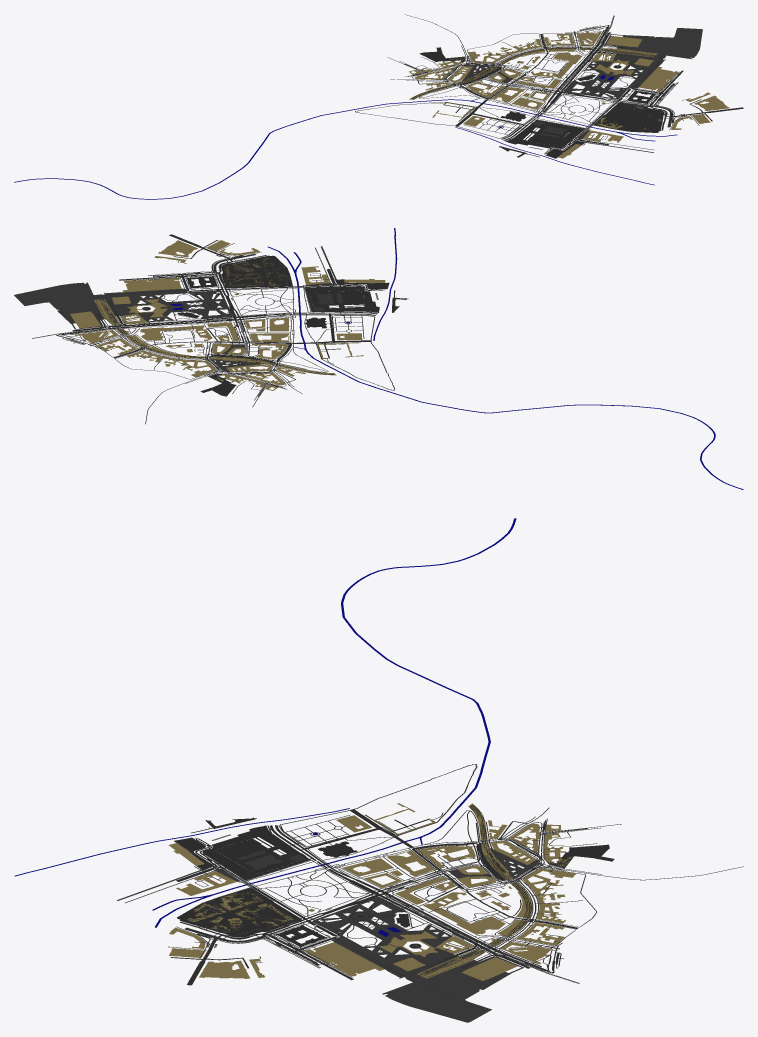
Rendered from map.obj.
3 renders of one model, top to bottom at view 1: azimuth 30°, elevation 25°; view 2: azimuth 150°, elevation 25°; view 3: azimuth 270°, elevation 25°, orthographic. The views are drawn at different scales.
Visible parts, largest first — view 1: RoadArea3321::pedestrian, RoadArea3327::pedestrian, RoadArea Nikolaiviertel::pedestrian, Waterway Spree, Rail Berliner Stadtbahn, Road Karl-Liebknecht-Straße, RoadArea Berliner Schloss::pedestrian, Building Rathauspassagen, Road Museumsinsel::pedestrian, Road Spandauer Straße; view 2: RoadArea3321::pedestrian, RoadArea3327::pedestrian, RoadArea Nikolaiviertel::pedestrian, Waterway Spree, Road Karl-Liebknecht-Straße, RoadArea Berliner Schloss::pedestrian, Building Rathauspassagen, Rail Berliner Stadtbahn; view 3: RoadArea3321::pedestrian, RoadArea3327::pedestrian, RoadArea Nikolaiviertel::pedestrian, Waterway Spree, Road Karl-Liebknecht-Straße, RoadArea Berliner Schloss::pedestrian, Rail Berliner Stadtbahn, Building Rathauspassagen.
Boxes of the visible parts, x1=… form: RoadArea3321::pedestrian: x1=564, y1=53, x2=665, y2=99; RoadArea3327::pedestrian: x1=605, y1=28, x2=702, y2=59; RoadArea Nikolaiviertel::pedestrian: x1=593, y1=102, x2=664, y2=132; Waterway Spree: x1=14, y1=99, x2=677, y2=199; Rail Berliner Stadtbahn: x1=411, y1=47, x2=656, y2=99; Road Karl-Liebknecht-Straße: x1=540, y1=25, x2=610, y2=112; RoadArea Berliner Schloss::pedestrian: x1=527, y1=123, x2=572, y2=145; Building Rathauspassagen: x1=639, y1=66, x2=672, y2=90; Road Museumsinsel::pedestrian: x1=355, y1=102, x2=520, y2=138; Road Spandauer Straße: x1=509, y1=83, x2=662, y2=109; RoadArea3321::pedestrian: x1=93, y1=288, x2=232, y2=322; RoadArea3327::pedestrian: x1=14, y1=282, x2=104, y2=329; RoadArea Nikolaiviertel::pedestrian: x1=221, y1=255, x2=292, y2=288; Waterway Spree: x1=267, y1=246, x2=743, y2=489; Road Karl-Liebknecht-Straße: x1=57, y1=313, x2=292, y2=335; RoadArea Berliner Schloss::pedestrian: x1=309, y1=290, x2=364, y2=306; Building Rathauspassagen: x1=122, y1=280, x2=181, y2=292; Rail Berliner Stadtbahn: x1=96, y1=299, x2=334, y2=374; RoadArea3321::pedestrian: x1=312, y1=897, x2=457, y2=982; RoadArea3327::pedestrian: x1=382, y1=956, x2=523, y2=1022; RoadArea Nikolaiviertel::pedestrian: x1=177, y1=887, x2=301, y2=937; Waterway Spree: x1=152, y1=518, x2=516, y2=927; Road Karl-Liebknecht-Straße: x1=328, y1=868, x2=552, y2=973; RoadArea Berliner Schloss::pedestrian: x1=215, y1=838, x2=293, y2=873; Rail Berliner Stadtbahn: x1=418, y1=805, x2=531, y2=977; Building Rathauspassagen: x1=313, y1=942, x2=384, y2=973.
Size of the model in its own units: 2972 by 0.5 by 1818.
